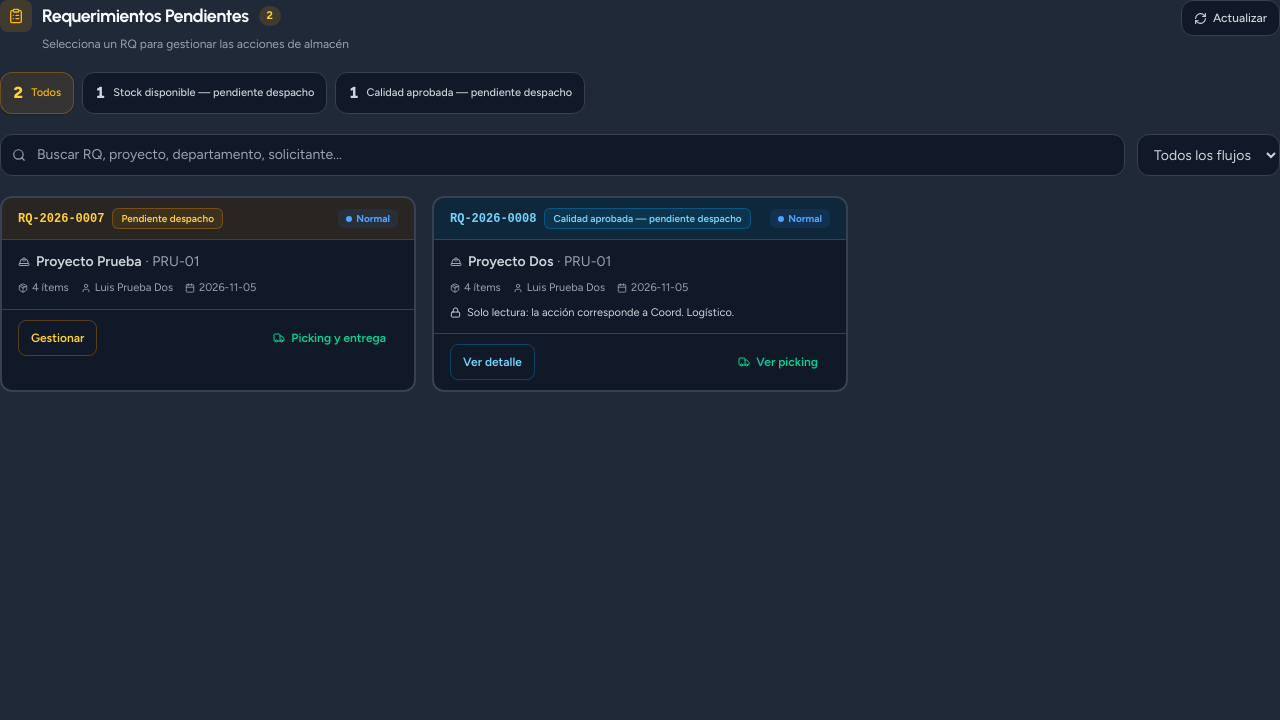
Scenario: PendientesPage — panel de acciones › envía acting_role y comments (no comment)
Click the button with aria-label "Gestionar RQ-2026-0007".
click(58, 338)  # box left=18, top=320, right=97, bottom=356
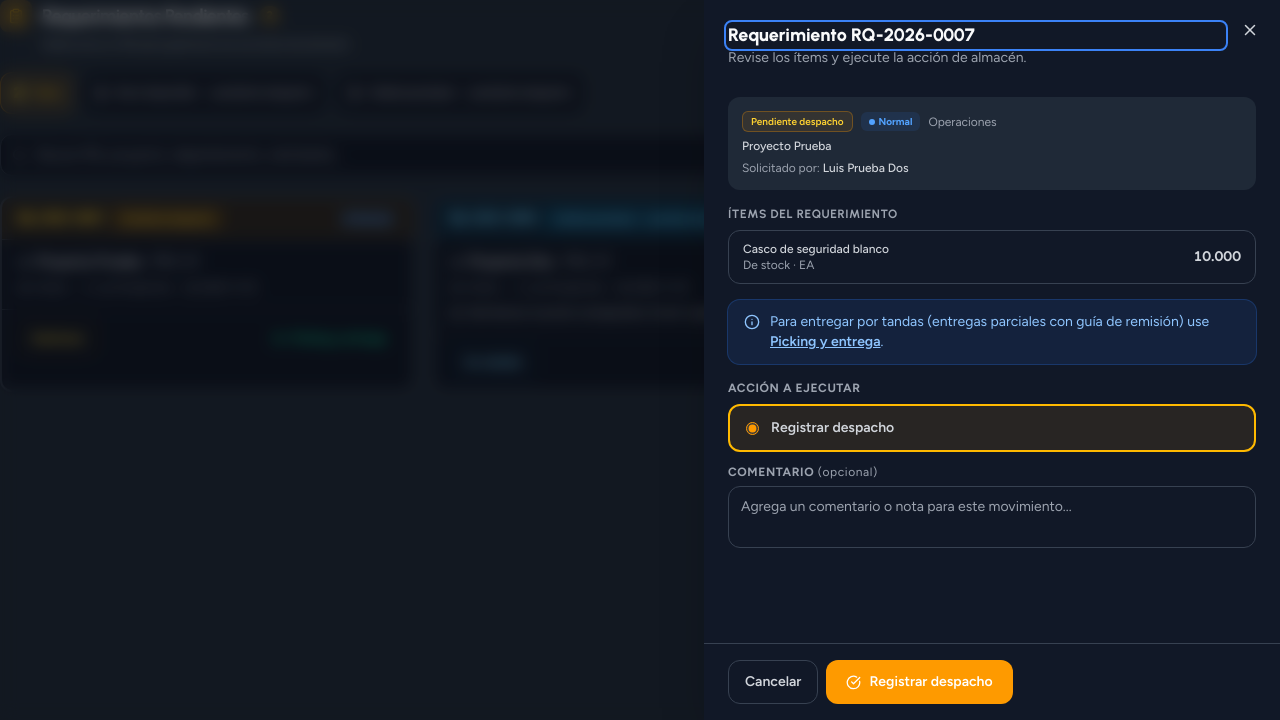
Now the radio button labelled "Registrar despacho" is shown, box left=746, top=422, right=759, bottom=435
Type "Todo conforme" into the text box labelled "Comentario (opcional)".
click(992, 517); type("Todo conforme")  # box left=728, top=486, right=1256, bottom=548
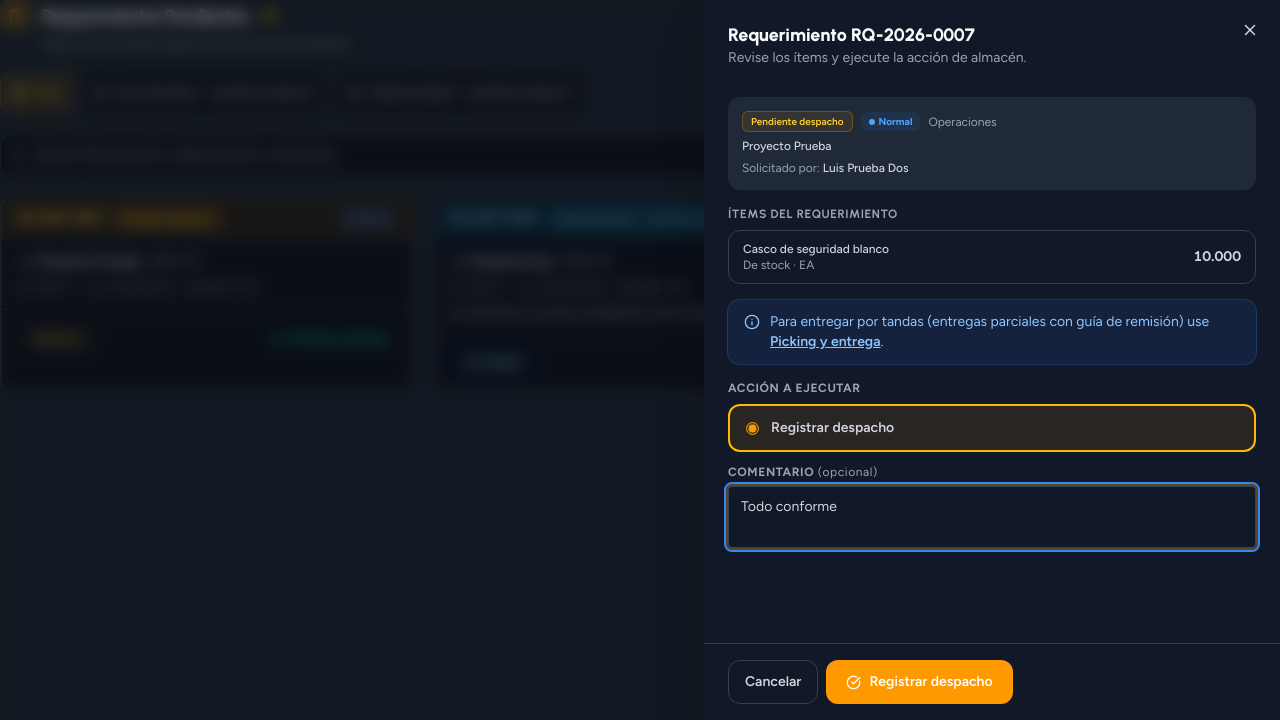
Click the button "Registrar despacho".
click(920, 682)  # box left=826, top=660, right=1013, bottom=704
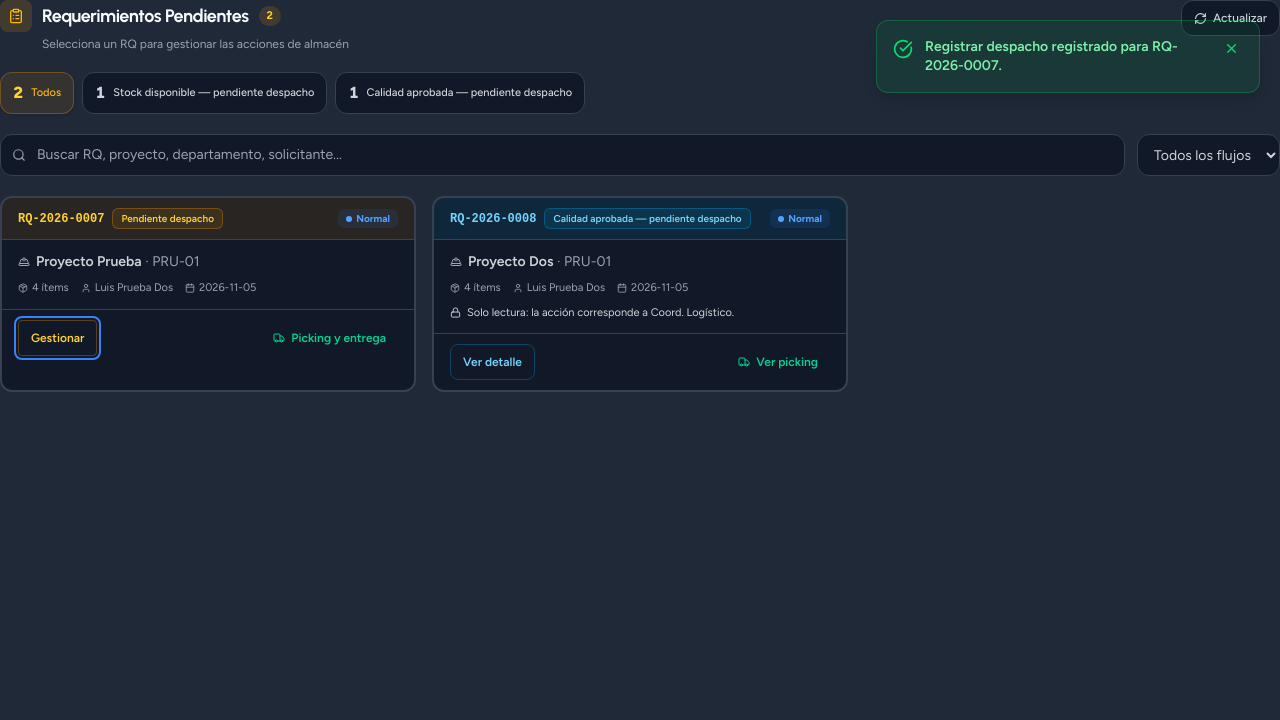
Now the dialog is gone
